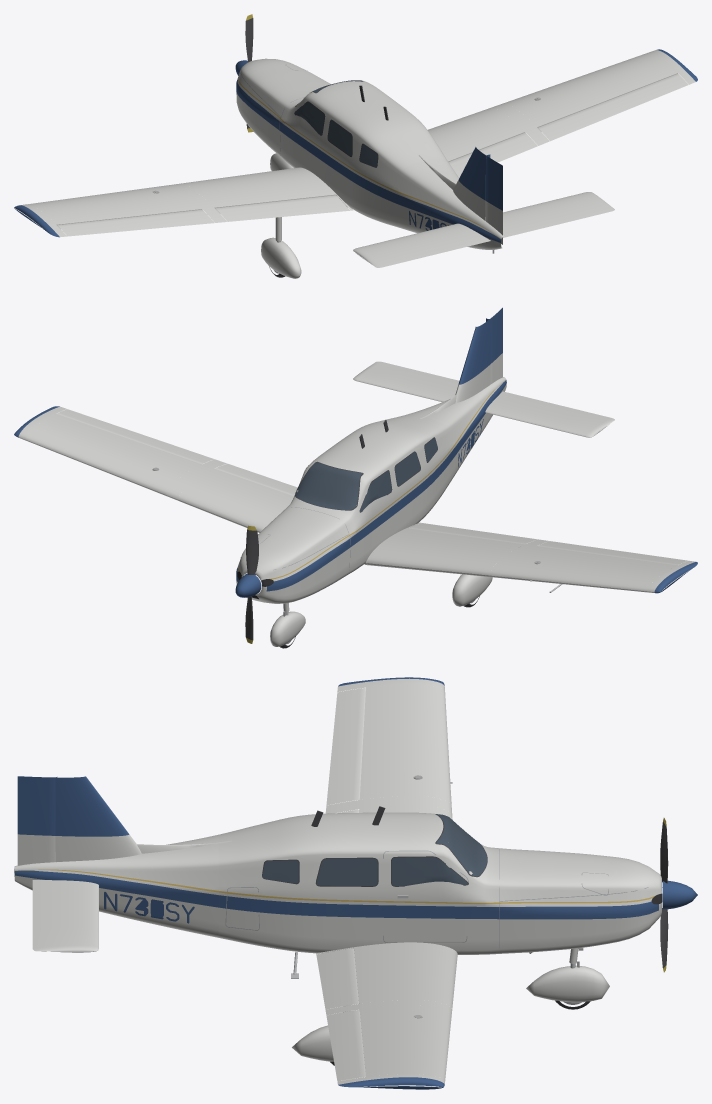
Rendered from archer.glb.
The picture shows the model from 3 angles, top to bottom: view 1: azimuth 30°, elevation 25°; view 2: azimuth 150°, elevation 25°; view 3: azimuth 270°, elevation 25°; orthographic projection. The views are drawn at different scales.
Parts seen in each view (by area): view 1: body, cabin, stab, ailR, ailL, flapL, gearL, rud, flapR, prop; view 2: body, cabin, stab, prop, ailR, ailL, gearN, gearL, flapL, rud, flapR; view 3: cabin, body, stab, ailL, rud, gearN, ailR, flapR, prop, gearR.
Boxes of the visible parts, box(x1,y1,x2,y2) form: body: box(14, 49, 697, 253); cabin: box(236, 58, 446, 227); stab: box(353, 192, 614, 267); ailR: box(537, 73, 688, 141); ailL: box(57, 209, 214, 236); flapL: box(215, 195, 349, 221); gearL: box(261, 217, 301, 278); rud: box(485, 156, 502, 244); flapR: box(448, 132, 537, 177); prop: box(235, 14, 253, 132); body: box(14, 319, 697, 593); cabin: box(236, 414, 452, 603); stab: box(353, 361, 614, 437); prop: box(235, 525, 261, 643); ailR: box(57, 409, 214, 463); ailL: box(538, 541, 688, 565); gearN: box(270, 603, 305, 648); gearL: box(452, 574, 492, 607); flapL: box(408, 523, 537, 546); rud: box(486, 307, 502, 383); flapR: box(215, 463, 297, 495); cabin: box(218, 806, 662, 954); body: box(14, 677, 457, 1089); stab: box(32, 880, 98, 952); ailL: box(326, 688, 365, 805); rud: box(17, 776, 57, 865); gearN: box(526, 947, 609, 1009); ailR: box(326, 1010, 365, 1081); flapR: box(316, 948, 358, 1009); prop: box(660, 818, 697, 972); gearR: box(292, 1011, 349, 1065).
Size of the model in its own units: 10.82 by 2.9 by 7.72.
